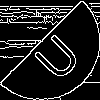U: (25, 25, 84, 84)
